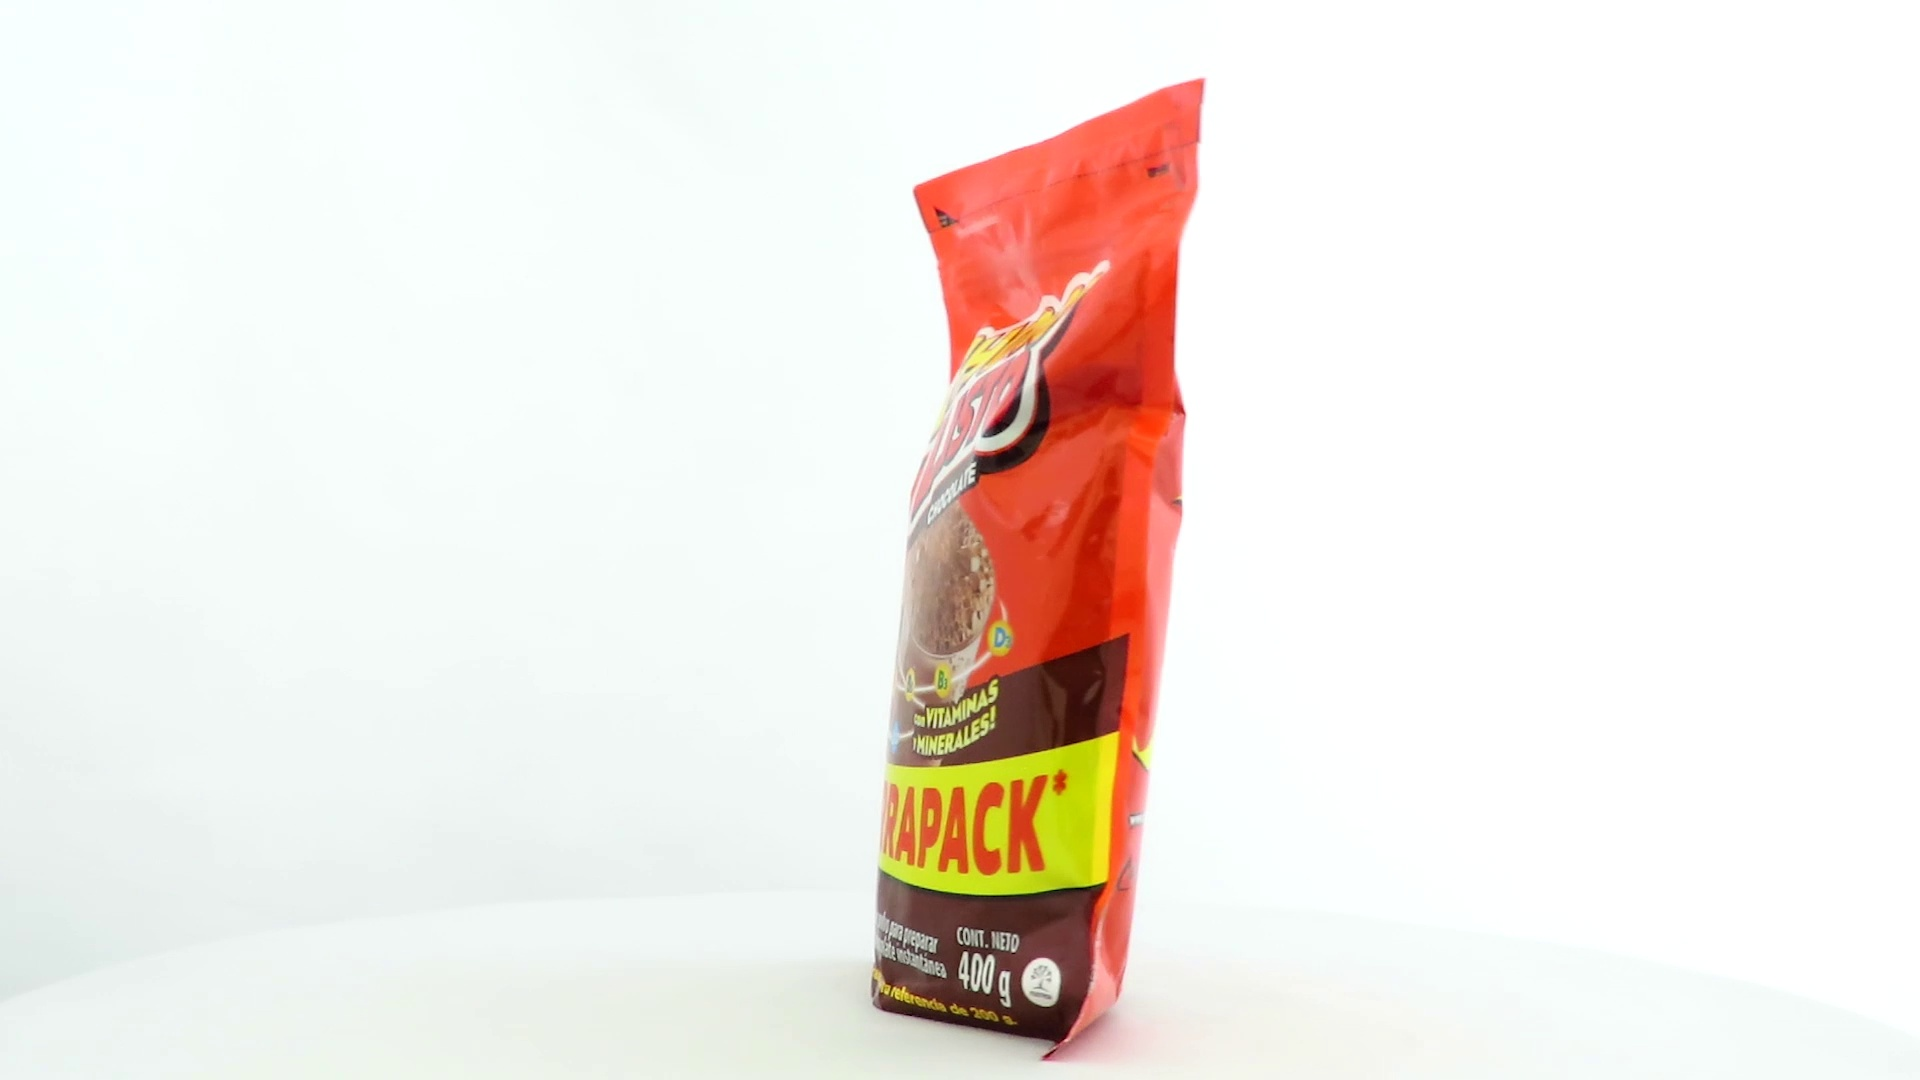COL0170103DYP40000: (866, 73, 1211, 1069)
